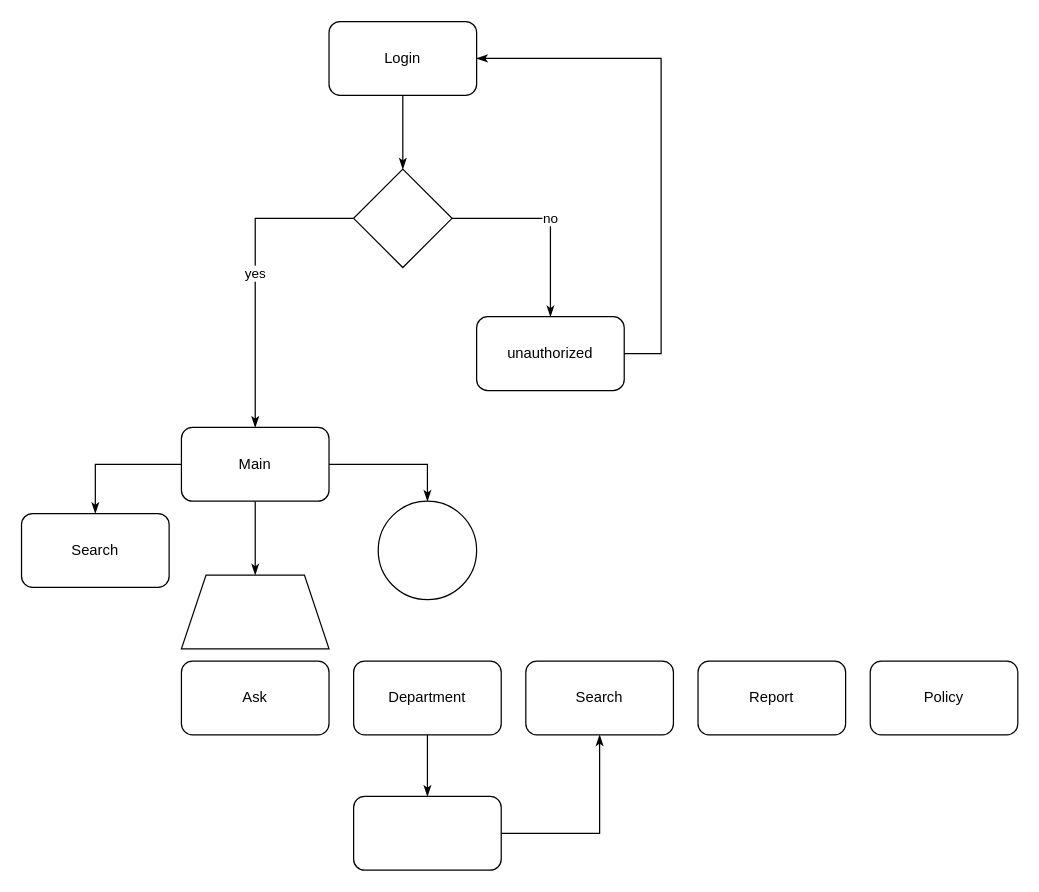
Some shapes in this 1039 by 892 pixel diagram are drawn without their labels. The centre of each missing label's shape, as x and y in pixels:
auth: the point at 402,218
Profile: the point at 427,550
Side bar: the point at 254,611
Subject: the point at 426,832
